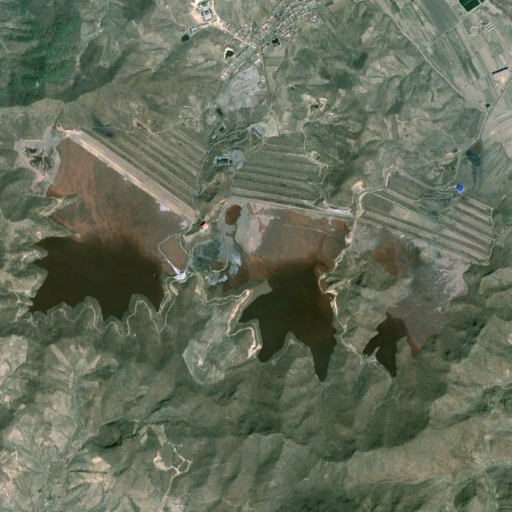tp: (25, 111, 210, 325), (324, 167, 497, 380), (221, 130, 349, 382)
